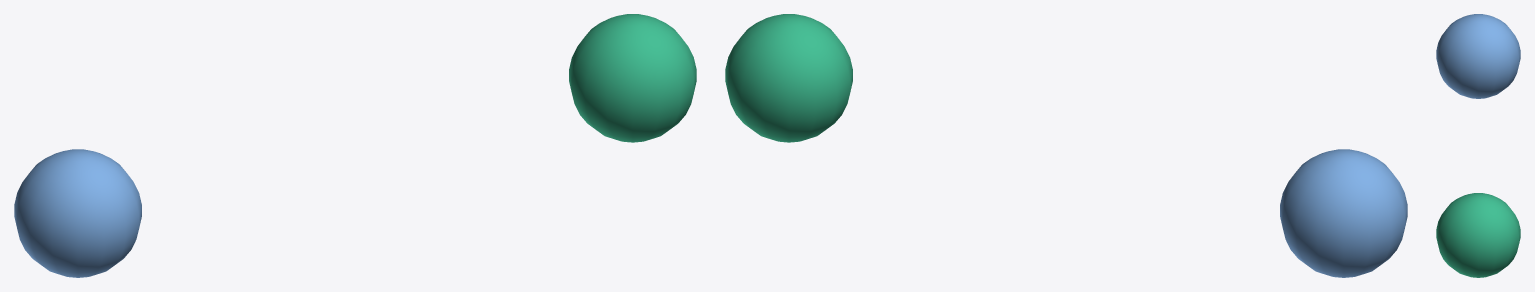
Rendered from sh010_LtoR_sphere_01.fbx.
3 renders of one model, left to right at view 1: azimuth 30°, elevation 25°; view 2: azimuth 150°, elevation 25°; view 3: azimuth 270°, elevation 25°, orthographic. The views are drawn at different scales.
Visible parts, largest first — view 1: b1_Rsphere, g1_Lsphere; view 2: b1_Rsphere, g1_Lsphere; view 3: g1_Lsphere, b1_Rsphere.
Part boxes in pixels (x1,y1,x2,y2): b1_Rsphere: (14, 149, 141, 277); g1_Lsphere: (569, 14, 696, 142); b1_Rsphere: (1280, 149, 1407, 277); g1_Lsphere: (725, 14, 852, 142); g1_Lsphere: (1436, 193, 1520, 277); b1_Rsphere: (1436, 14, 1520, 98).
Bounding box in the file's own units: 95.84 × 16.1 × 15.92.
